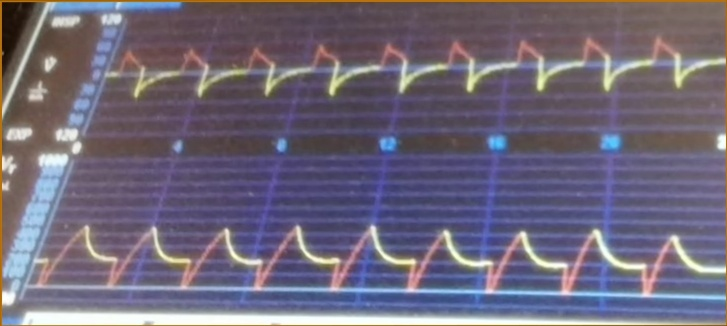Flow: (116, 35, 724, 126)
Leakage Volume: (51, 199, 725, 309)
